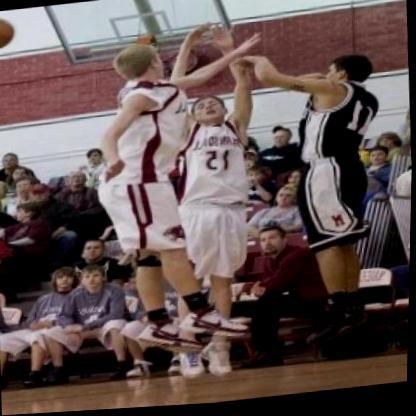basketball: (0, 13, 20, 56)
